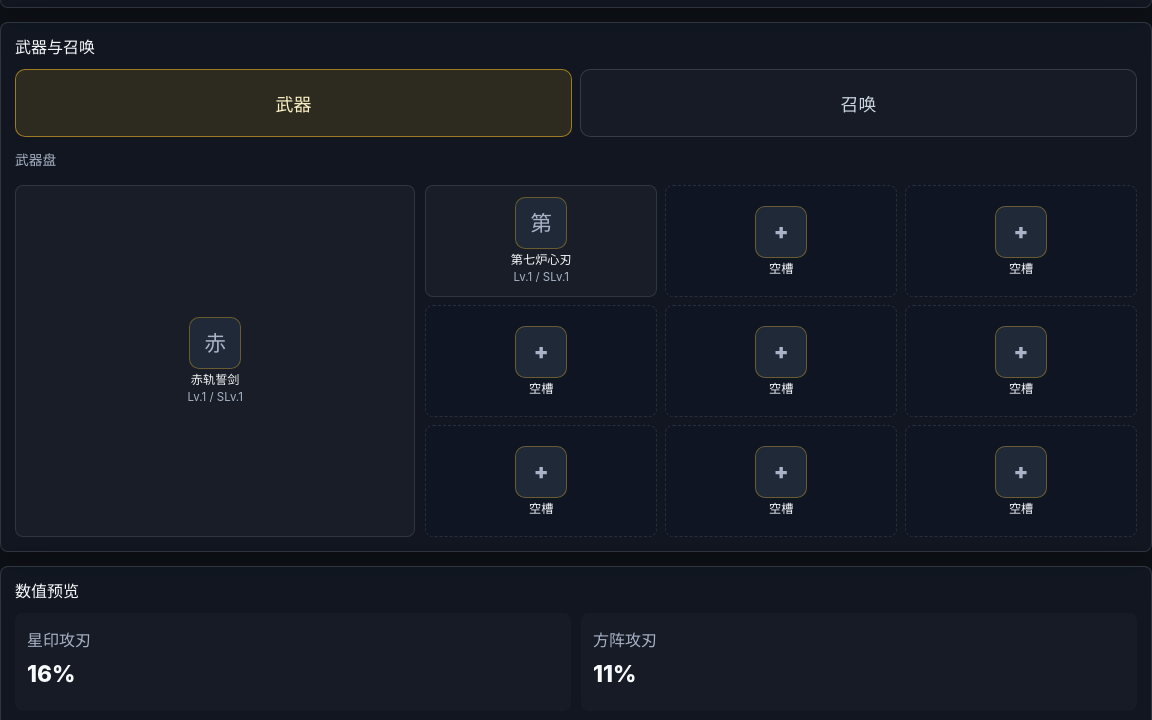
Test: formation screen › swaps slots when selecting equipment that is already equipped elsewhere
(page scrolled)
Click the button with test id "weapon-main-slot-trigger": (215, 361) x1=15 y1=185 x2=415 y2=537
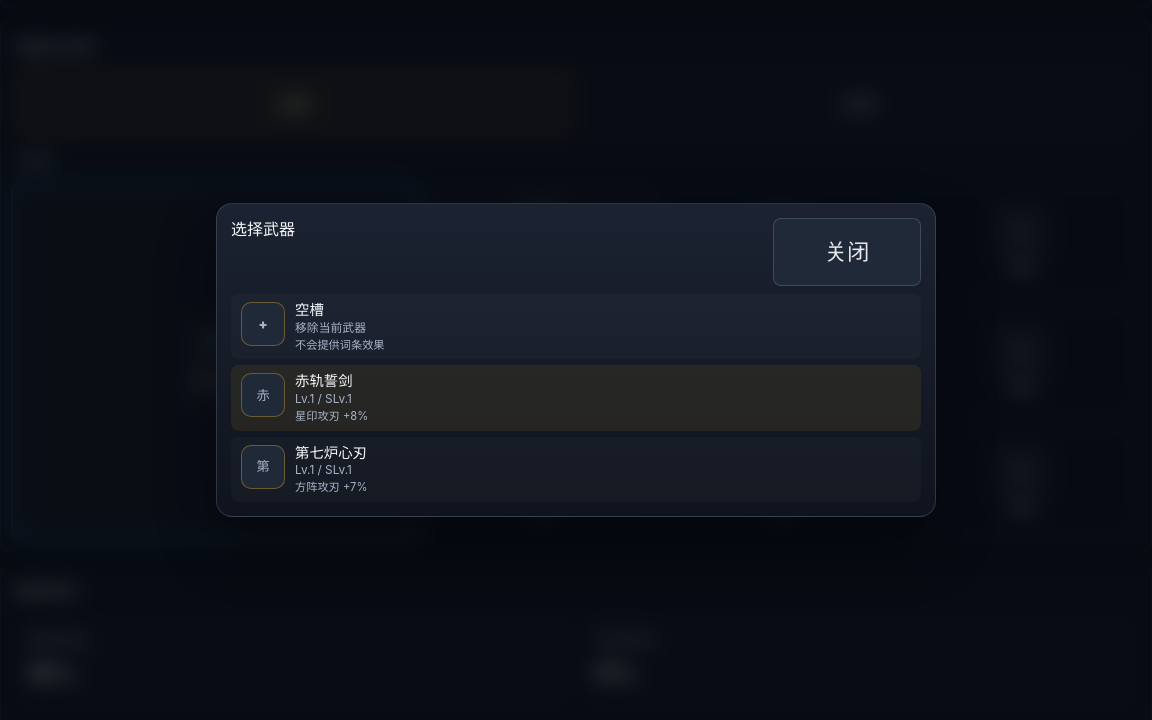
Click the button with test id "weapon-picker-option-weapon-furnace-grid-blade": (263, 467) x1=231 y1=436 x2=921 y2=502
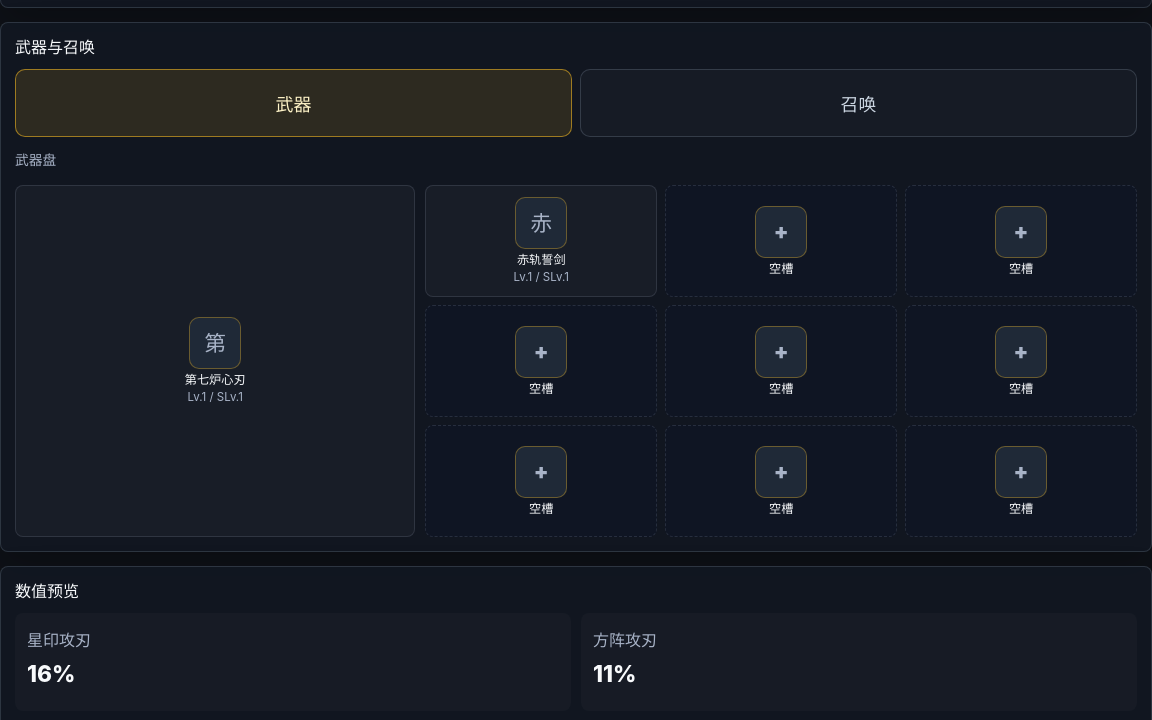
Result: the element with test id "weapon-main-slot" shows "第七炉心" at x1=15 y1=185 x2=415 y2=537
Result: the button with test id "weapon-slot-trigger-1" shows "赤轨" at x1=425 y1=185 x2=657 y2=297
